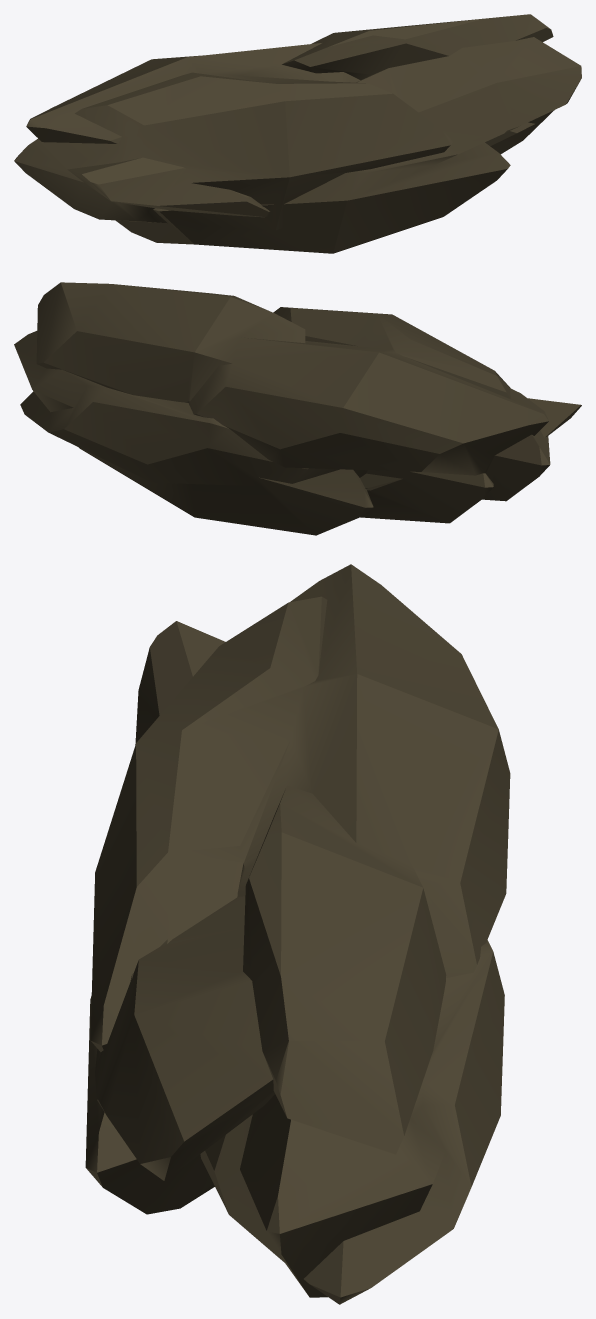
Rendered from BgMD_Rock_01_03.fbx.
The picture shows the model from 3 angles, top to bottom: view 1: azimuth 30°, elevation 25°; view 2: azimuth 150°, elevation 25°; view 3: azimuth 270°, elevation 25°; orthographic projection. The views are drawn at different scales.
Parts seen in each view (by area): view 1: polySurface52; view 2: polySurface52; view 3: polySurface52.
Boxes of the visible parts, box(x1,y1,x2,y2) form: polySurface52: box(14, 14, 581, 253); polySurface52: box(14, 282, 581, 535); polySurface52: box(85, 564, 510, 1304).
Bounding box in the file's own units: 177 × 59.68 × 59.74.
